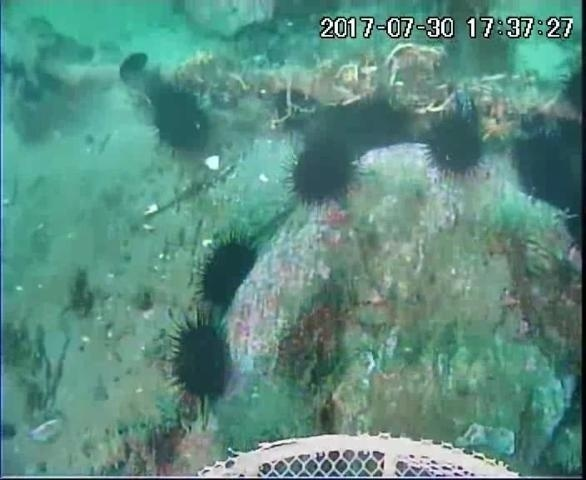echinus: (162, 312, 236, 410), (509, 126, 584, 218), (194, 232, 263, 314), (144, 81, 215, 158), (335, 92, 416, 159), (285, 138, 361, 209), (418, 107, 489, 180), (556, 59, 585, 118)
starfish: (475, 111, 528, 155)
